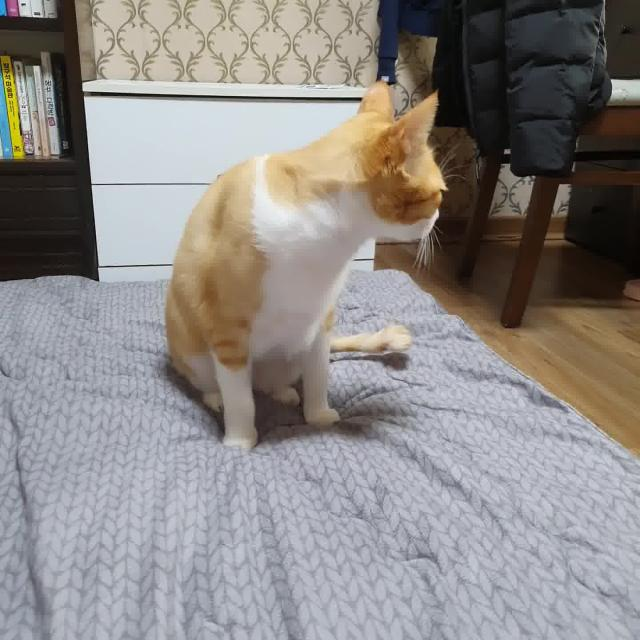cat: (156, 77, 456, 456)
